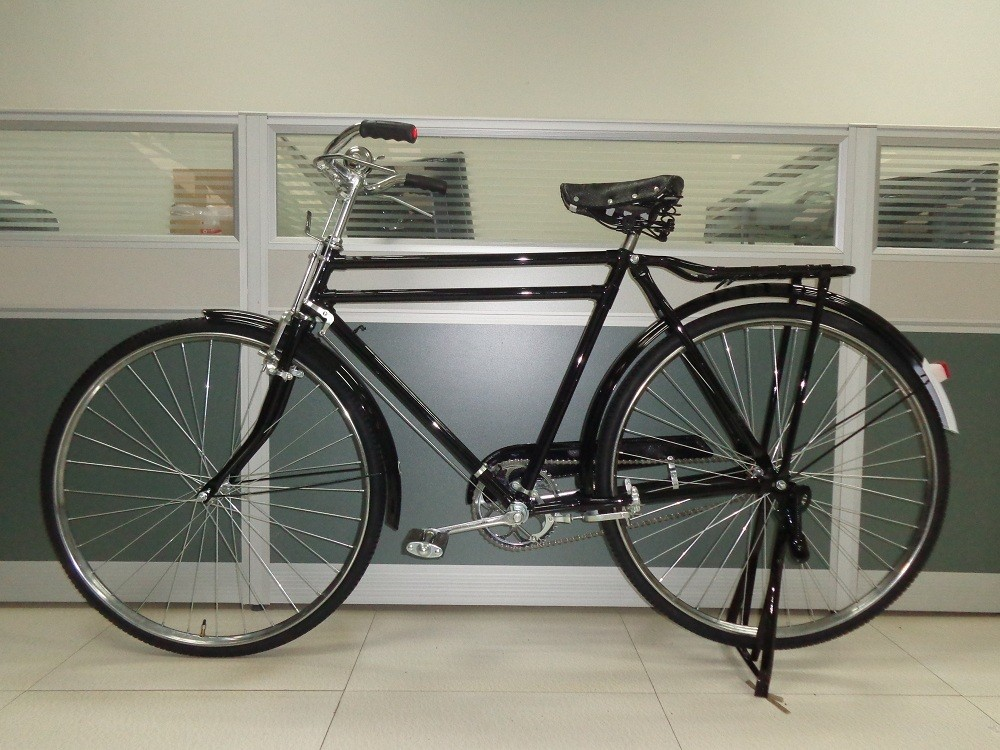cycle: (35, 113, 969, 700)
